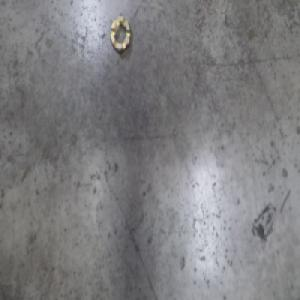Nut: (109, 14, 132, 54)
